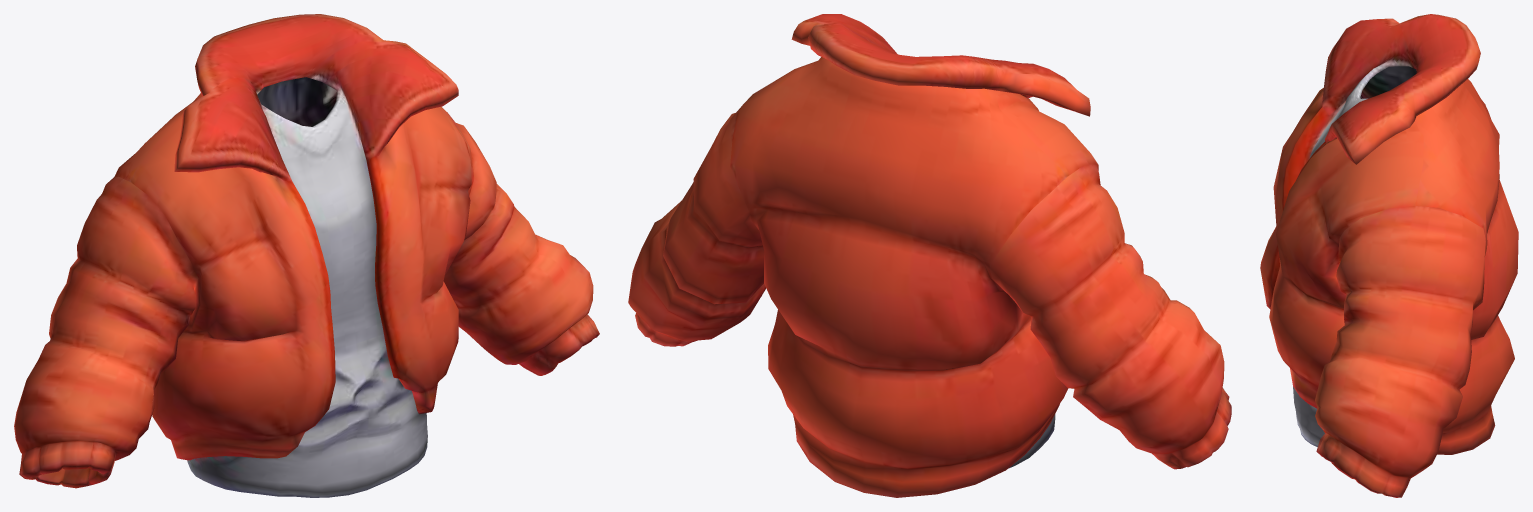
Rendered from body7.glb.
The picture shows the model from 3 angles, left to right: view 1: azimuth 30°, elevation 25°; view 2: azimuth 150°, elevation 25°; view 3: azimuth 270°, elevation 25°; orthographic projection. The views are drawn at different scales.
Visible parts, largest first — view 1: Wolf3D_Outfit_Top; view 2: Wolf3D_Outfit_Top; view 3: Wolf3D_Outfit_Top.
Part boxes in pixels (box(x1,y1,x2,y2)): Wolf3D_Outfit_Top: box(14, 14, 599, 497); Wolf3D_Outfit_Top: box(628, 14, 1231, 497); Wolf3D_Outfit_Top: box(1260, 14, 1518, 497).
Bounding box in the file's own units: 1.03 × 0.7266 × 0.4398.
1 material, 1 textured.
